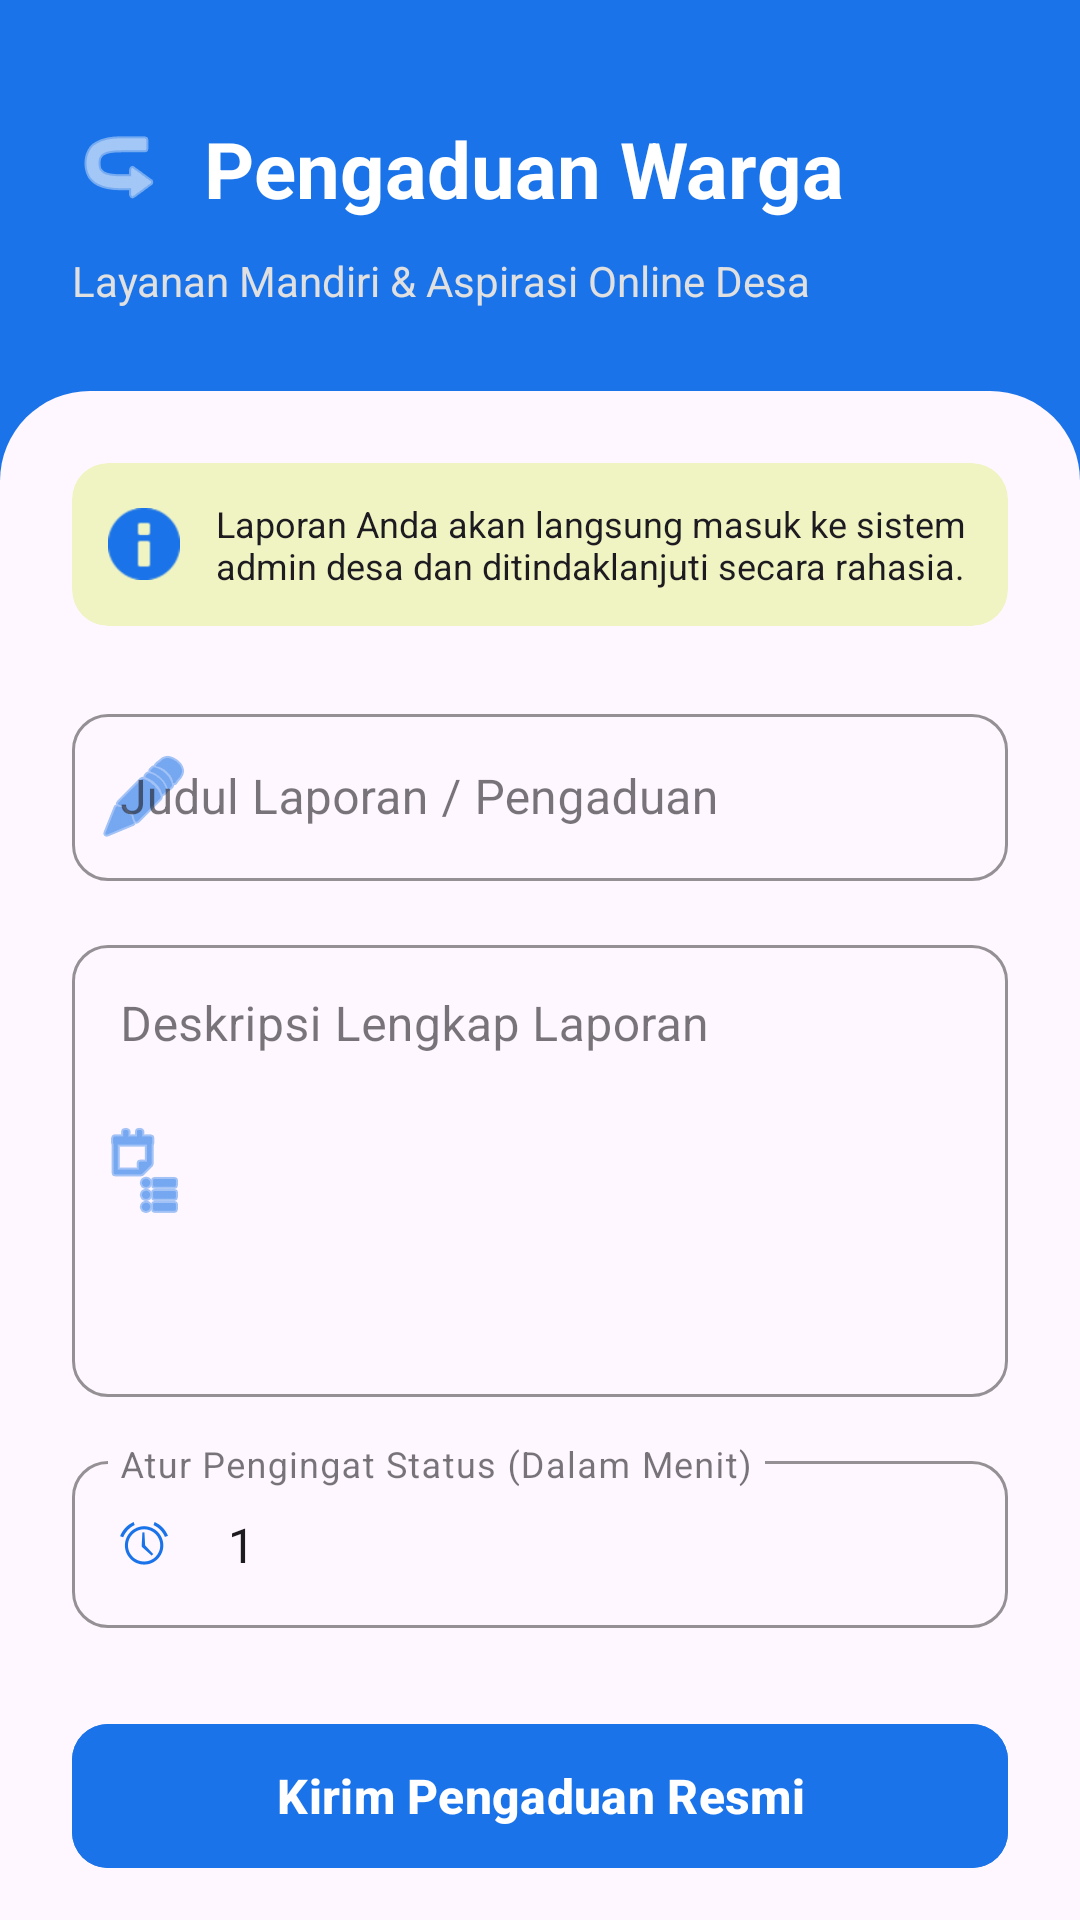

Icons on this 1080×1920 Android screen, each with its box as bbox=(x1, y1, x2, y2):
info: bbox=(108, 508, 180, 580)
